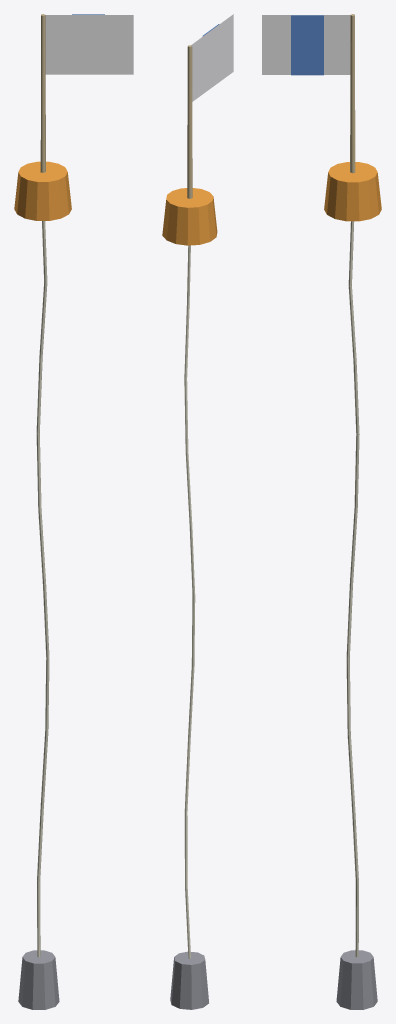
The model's file is dive_marker_a.glb.
3 renders of one model, left to right at view 1: azimuth 90°, elevation 25°; view 2: azimuth 150°, elevation 25°; view 3: azimuth 270°, elevation 25°, orthographic. The views are drawn at different scales.
Parts seen in each view (by area): view 1: body; view 2: body; view 3: body.
Boxes of the visible parts, box(x1,y1,x2,y2) form: body: box(14, 14, 133, 1009); body: box(162, 14, 233, 1009); body: box(262, 14, 381, 1009).
Bounding box in the file's own units: 0.1365 × 2.64 × 0.29.
